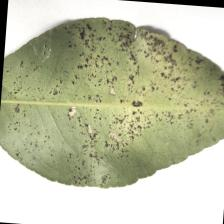canker: (59, 24, 195, 144)
